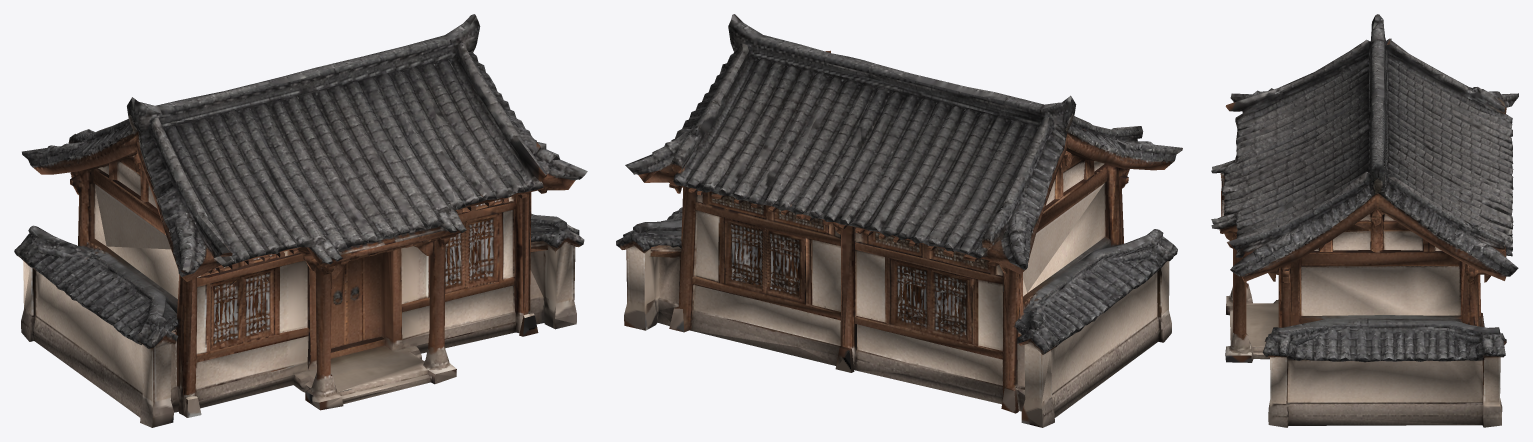
File: 03_Small_Courtyard_Residence_LOD2.fbx
The picture shows the model from 3 angles, left to right: view 1: azimuth 30°, elevation 25°; view 2: azimuth 150°, elevation 25°; view 3: azimuth 270°, elevation 25°; orthographic projection. The views are drawn at different scales.
Visible parts, largest first — view 1: 03_Small_Courtyard_Residence_L2; view 2: 03_Small_Courtyard_Residence_L2; view 3: 03_Small_Courtyard_Residence_L2.
Boxes of the visible parts, left/top/right/bottom form: 03_Small_Courtyard_Residence_L2: left=14, top=14, right=587, bottom=427; 03_Small_Courtyard_Residence_L2: left=616, top=14, right=1182, bottom=427; 03_Small_Courtyard_Residence_L2: left=1211, top=14, right=1518, bottom=427.
Bounding box in the file's own units: 9.19 × 5.5 × 6.22.
